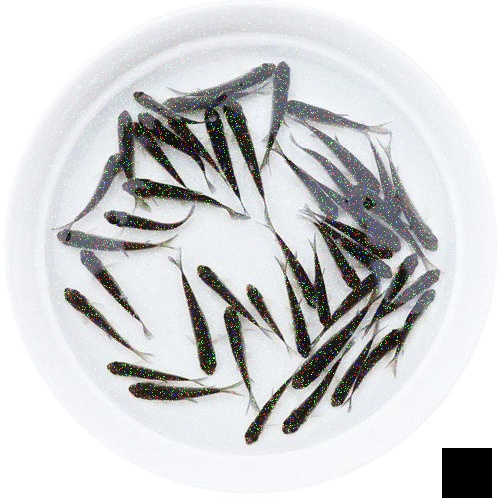fry: (56, 281, 122, 346), (180, 282, 220, 377), (221, 303, 257, 396), (53, 224, 145, 260), (118, 173, 209, 209), (99, 201, 178, 241), (75, 247, 125, 304), (122, 377, 219, 406), (285, 90, 360, 127), (280, 248, 324, 310), (99, 354, 179, 387), (276, 393, 330, 440), (246, 280, 288, 340), (236, 394, 285, 445), (80, 151, 122, 209), (207, 60, 274, 96), (325, 353, 364, 414), (267, 56, 293, 145), (219, 96, 261, 151), (340, 145, 386, 191), (403, 194, 441, 248), (192, 258, 233, 306), (291, 343, 332, 389), (129, 121, 169, 168), (311, 272, 340, 333), (298, 181, 340, 221), (326, 160, 364, 204), (361, 215, 404, 251), (407, 288, 446, 327), (328, 249, 364, 290), (136, 104, 175, 140), (203, 105, 229, 158), (355, 179, 390, 217), (110, 106, 137, 154), (345, 268, 382, 303), (378, 323, 406, 369), (164, 87, 214, 112), (165, 111, 201, 143), (407, 266, 447, 293), (288, 318, 313, 359), (356, 233, 395, 259), (362, 253, 397, 279), (396, 251, 421, 284), (130, 90, 163, 114)
